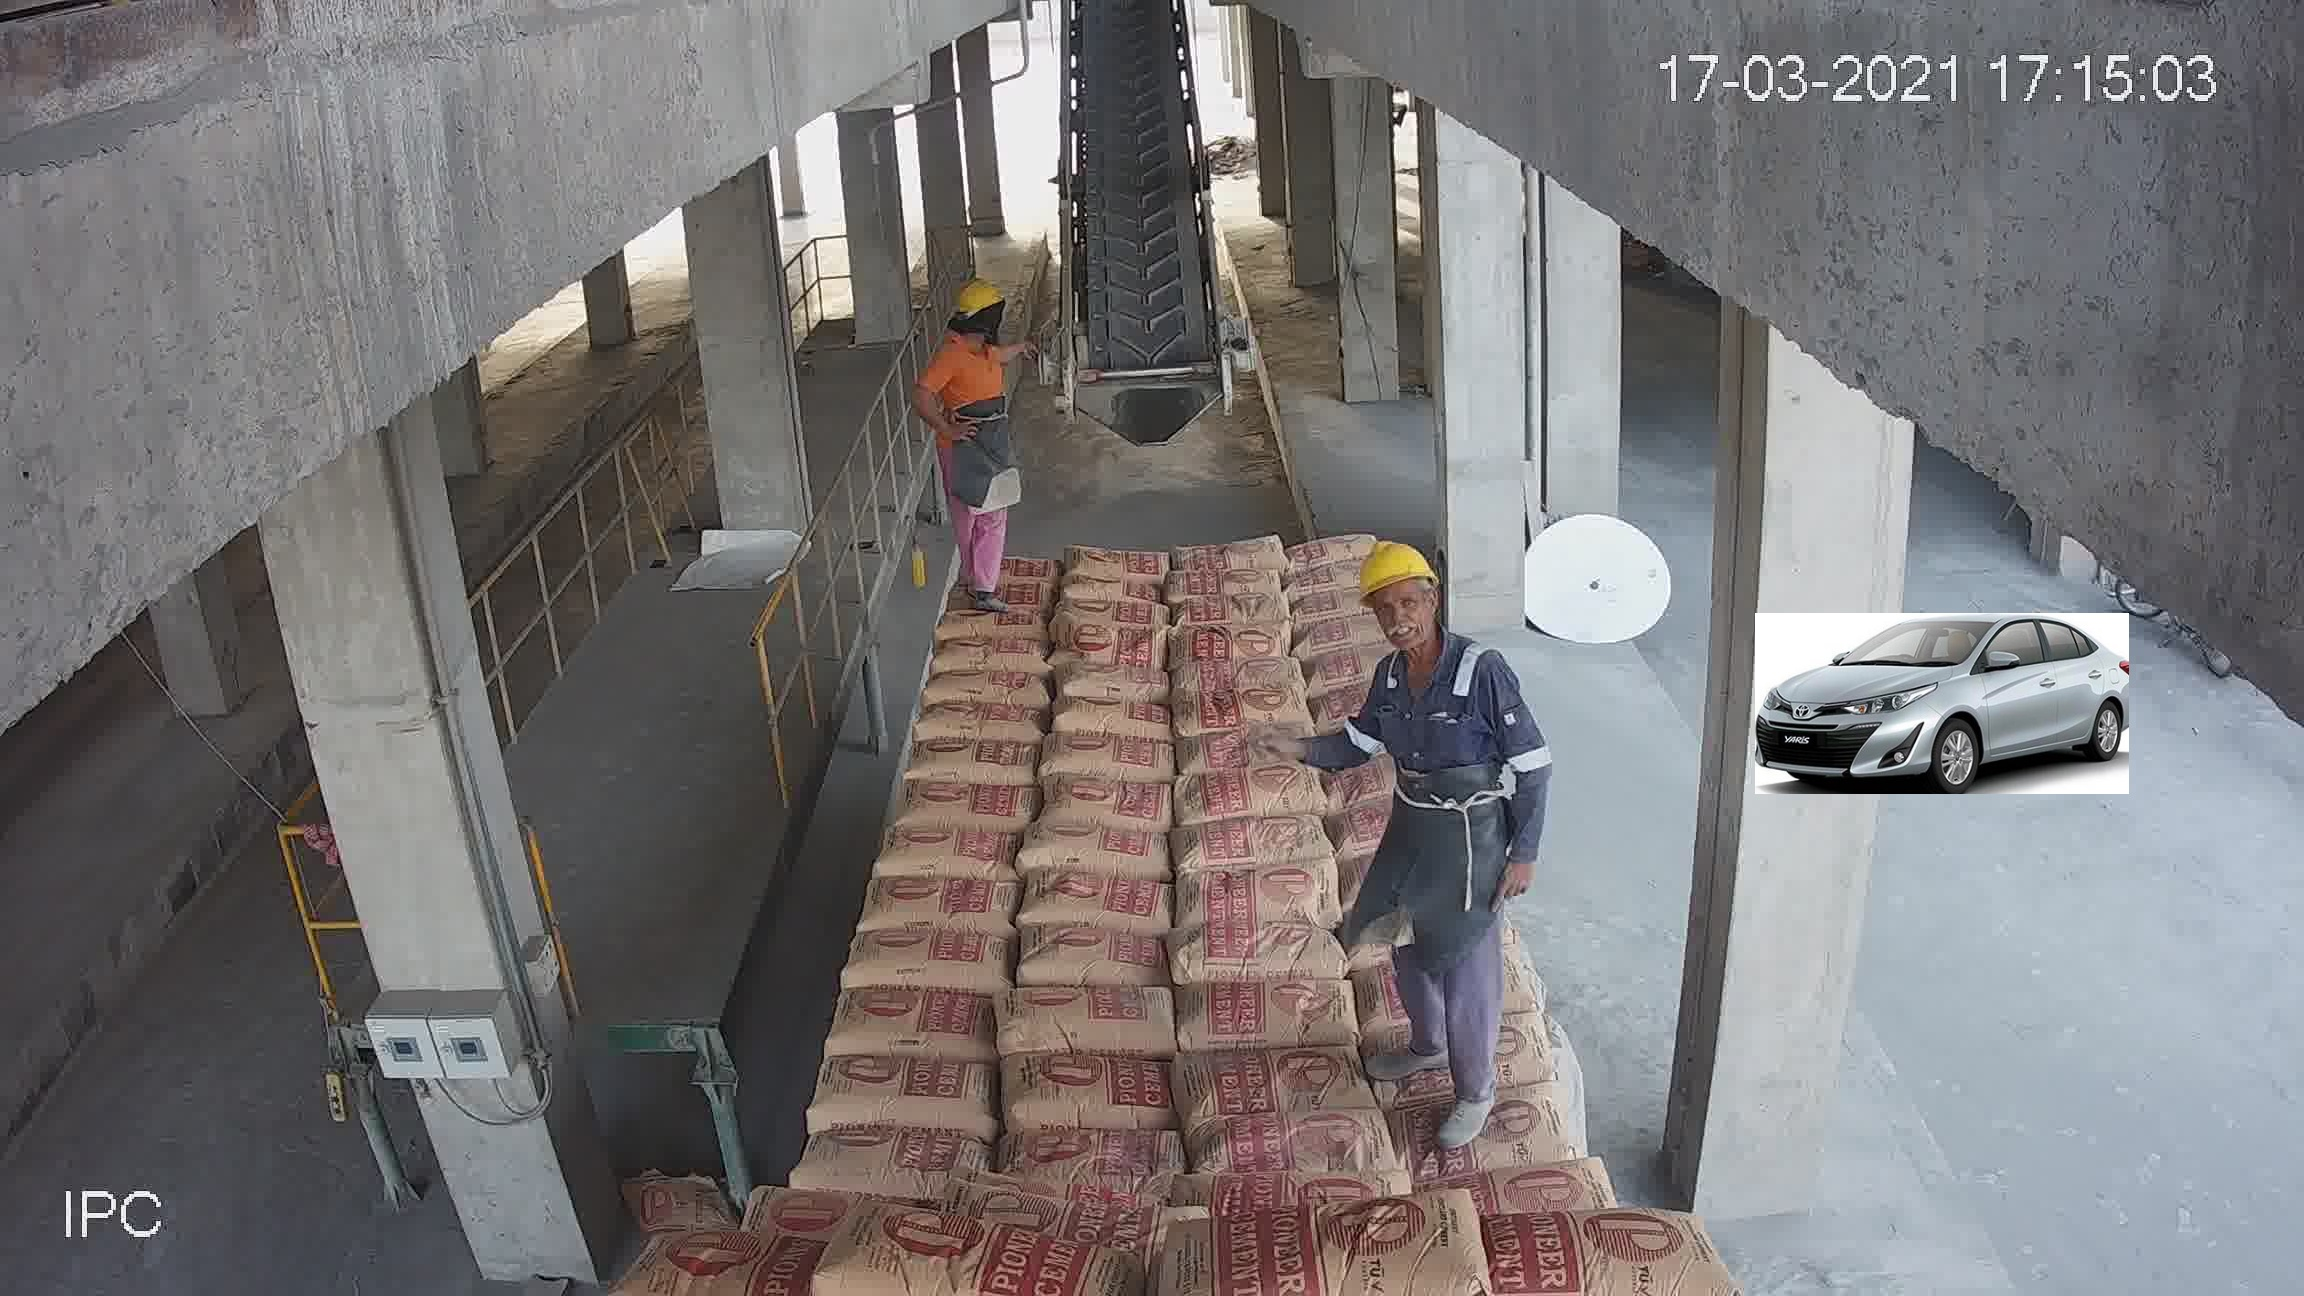bag_h: (1196, 1204, 1510, 1296), (807, 1218, 1122, 1296), (1435, 1206, 1707, 1291), (1367, 1078, 1552, 1187), (1201, 1108, 1404, 1190), (805, 1057, 1005, 1136), (1188, 1046, 1367, 1131), (1006, 1051, 1187, 1131), (1176, 973, 1367, 1049), (638, 1226, 847, 1294), (999, 987, 1185, 1063), (828, 980, 1005, 1059), (995, 1120, 1187, 1187), (791, 1128, 994, 1188), (1177, 923, 1355, 991), (856, 872, 1022, 943), (1434, 1160, 1612, 1225), (840, 927, 1014, 994), (1021, 815, 1171, 888), (1180, 862, 1332, 930), (1179, 756, 1329, 824), (1176, 812, 1329, 878), (1016, 932, 1177, 991), (1022, 873, 1180, 932), (900, 734, 1051, 793), (1044, 772, 1184, 834), (894, 782, 1041, 836), (872, 829, 1019, 881), (910, 698, 1059, 747), (1174, 685, 1317, 734), (1173, 736, 1310, 786), (1168, 654, 1305, 703), (1063, 609, 1168, 673), (913, 661, 1049, 707), (1051, 739, 1177, 786), (924, 635, 1067, 676), (1060, 657, 1176, 707), (1168, 619, 1293, 665), (1052, 699, 1163, 745), (1065, 541, 1176, 585), (930, 606, 1057, 644), (1279, 529, 1381, 574), (1165, 529, 1296, 562), (1166, 565, 1285, 601), (1169, 593, 1288, 627), (1060, 600, 1173, 633), (1054, 574, 1165, 608)
belt: (1052, 2, 1222, 415)
